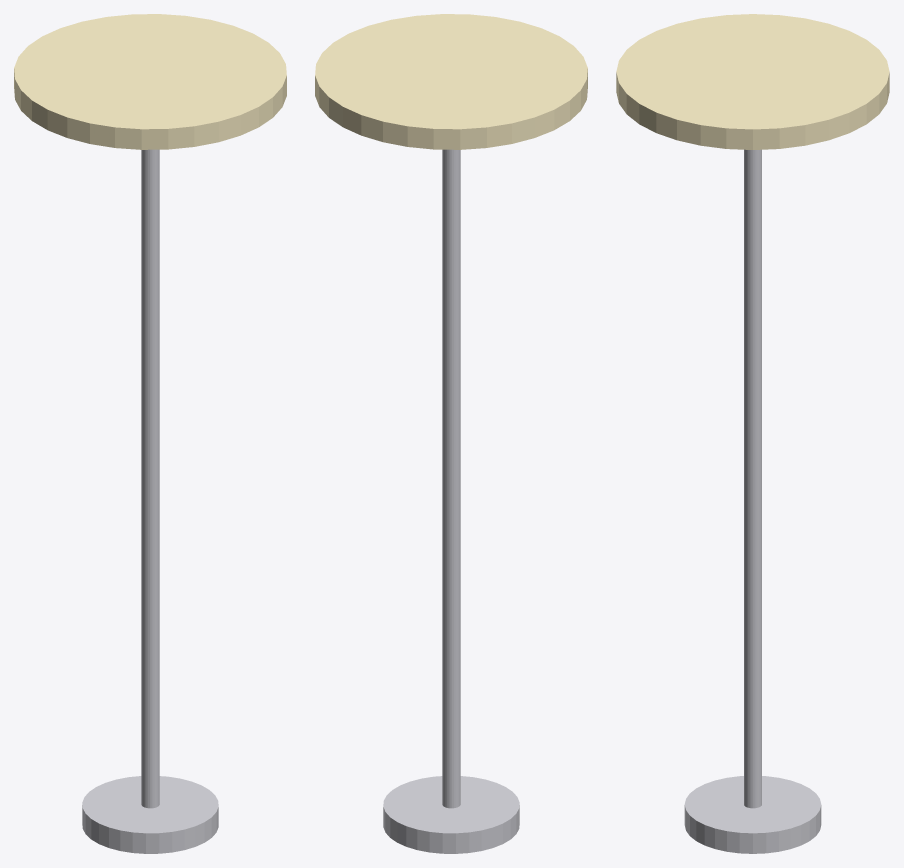
The model's file is lamp.glb.
3 renders of one model, left to right at view 1: azimuth 30°, elevation 25°; view 2: azimuth 150°, elevation 25°; view 3: azimuth 270°, elevation 25°, orthographic.
Visible parts, largest first — view 1: Cylinder, Cylinder.001, Cylinder.002; view 2: Cylinder, Cylinder.001, Cylinder.002; view 3: Cylinder, Cylinder.001, Cylinder.002.
Part boxes in pixels (box(x1,y1,x2,y2)): Cylinder: box(14, 14, 286, 149); Cylinder.001: box(141, 149, 159, 808); Cylinder.002: box(82, 776, 218, 853); Cylinder: box(315, 14, 587, 149); Cylinder.001: box(442, 149, 460, 808); Cylinder.002: box(383, 776, 519, 853); Cylinder: box(616, 14, 889, 149); Cylinder.001: box(744, 149, 761, 808); Cylinder.002: box(684, 776, 821, 853).
Bounding box in the file's own units: 0.6 × 1.82 × 0.6.
